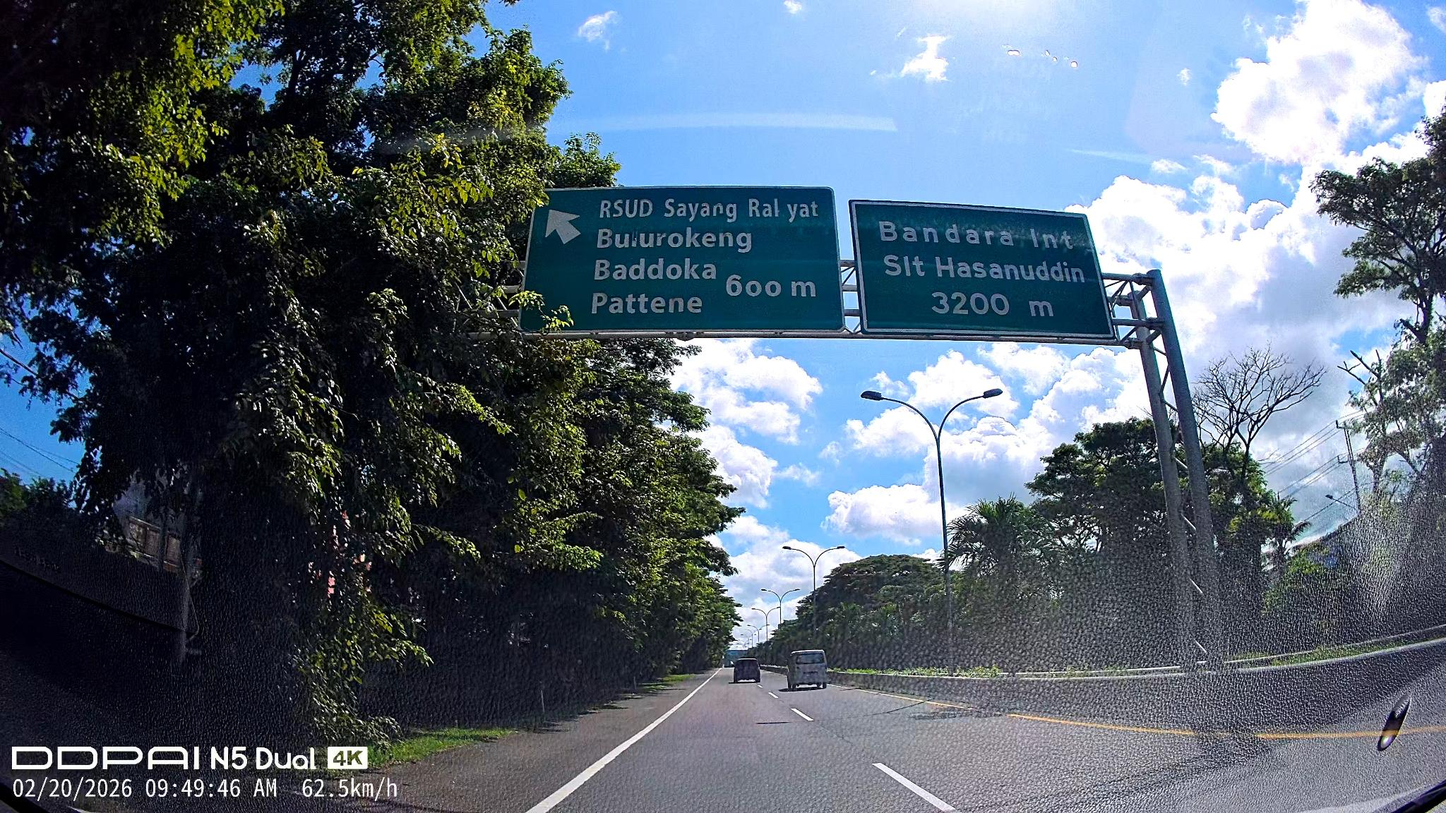rambu_teks: (516, 185, 848, 334), (847, 197, 1118, 343)
